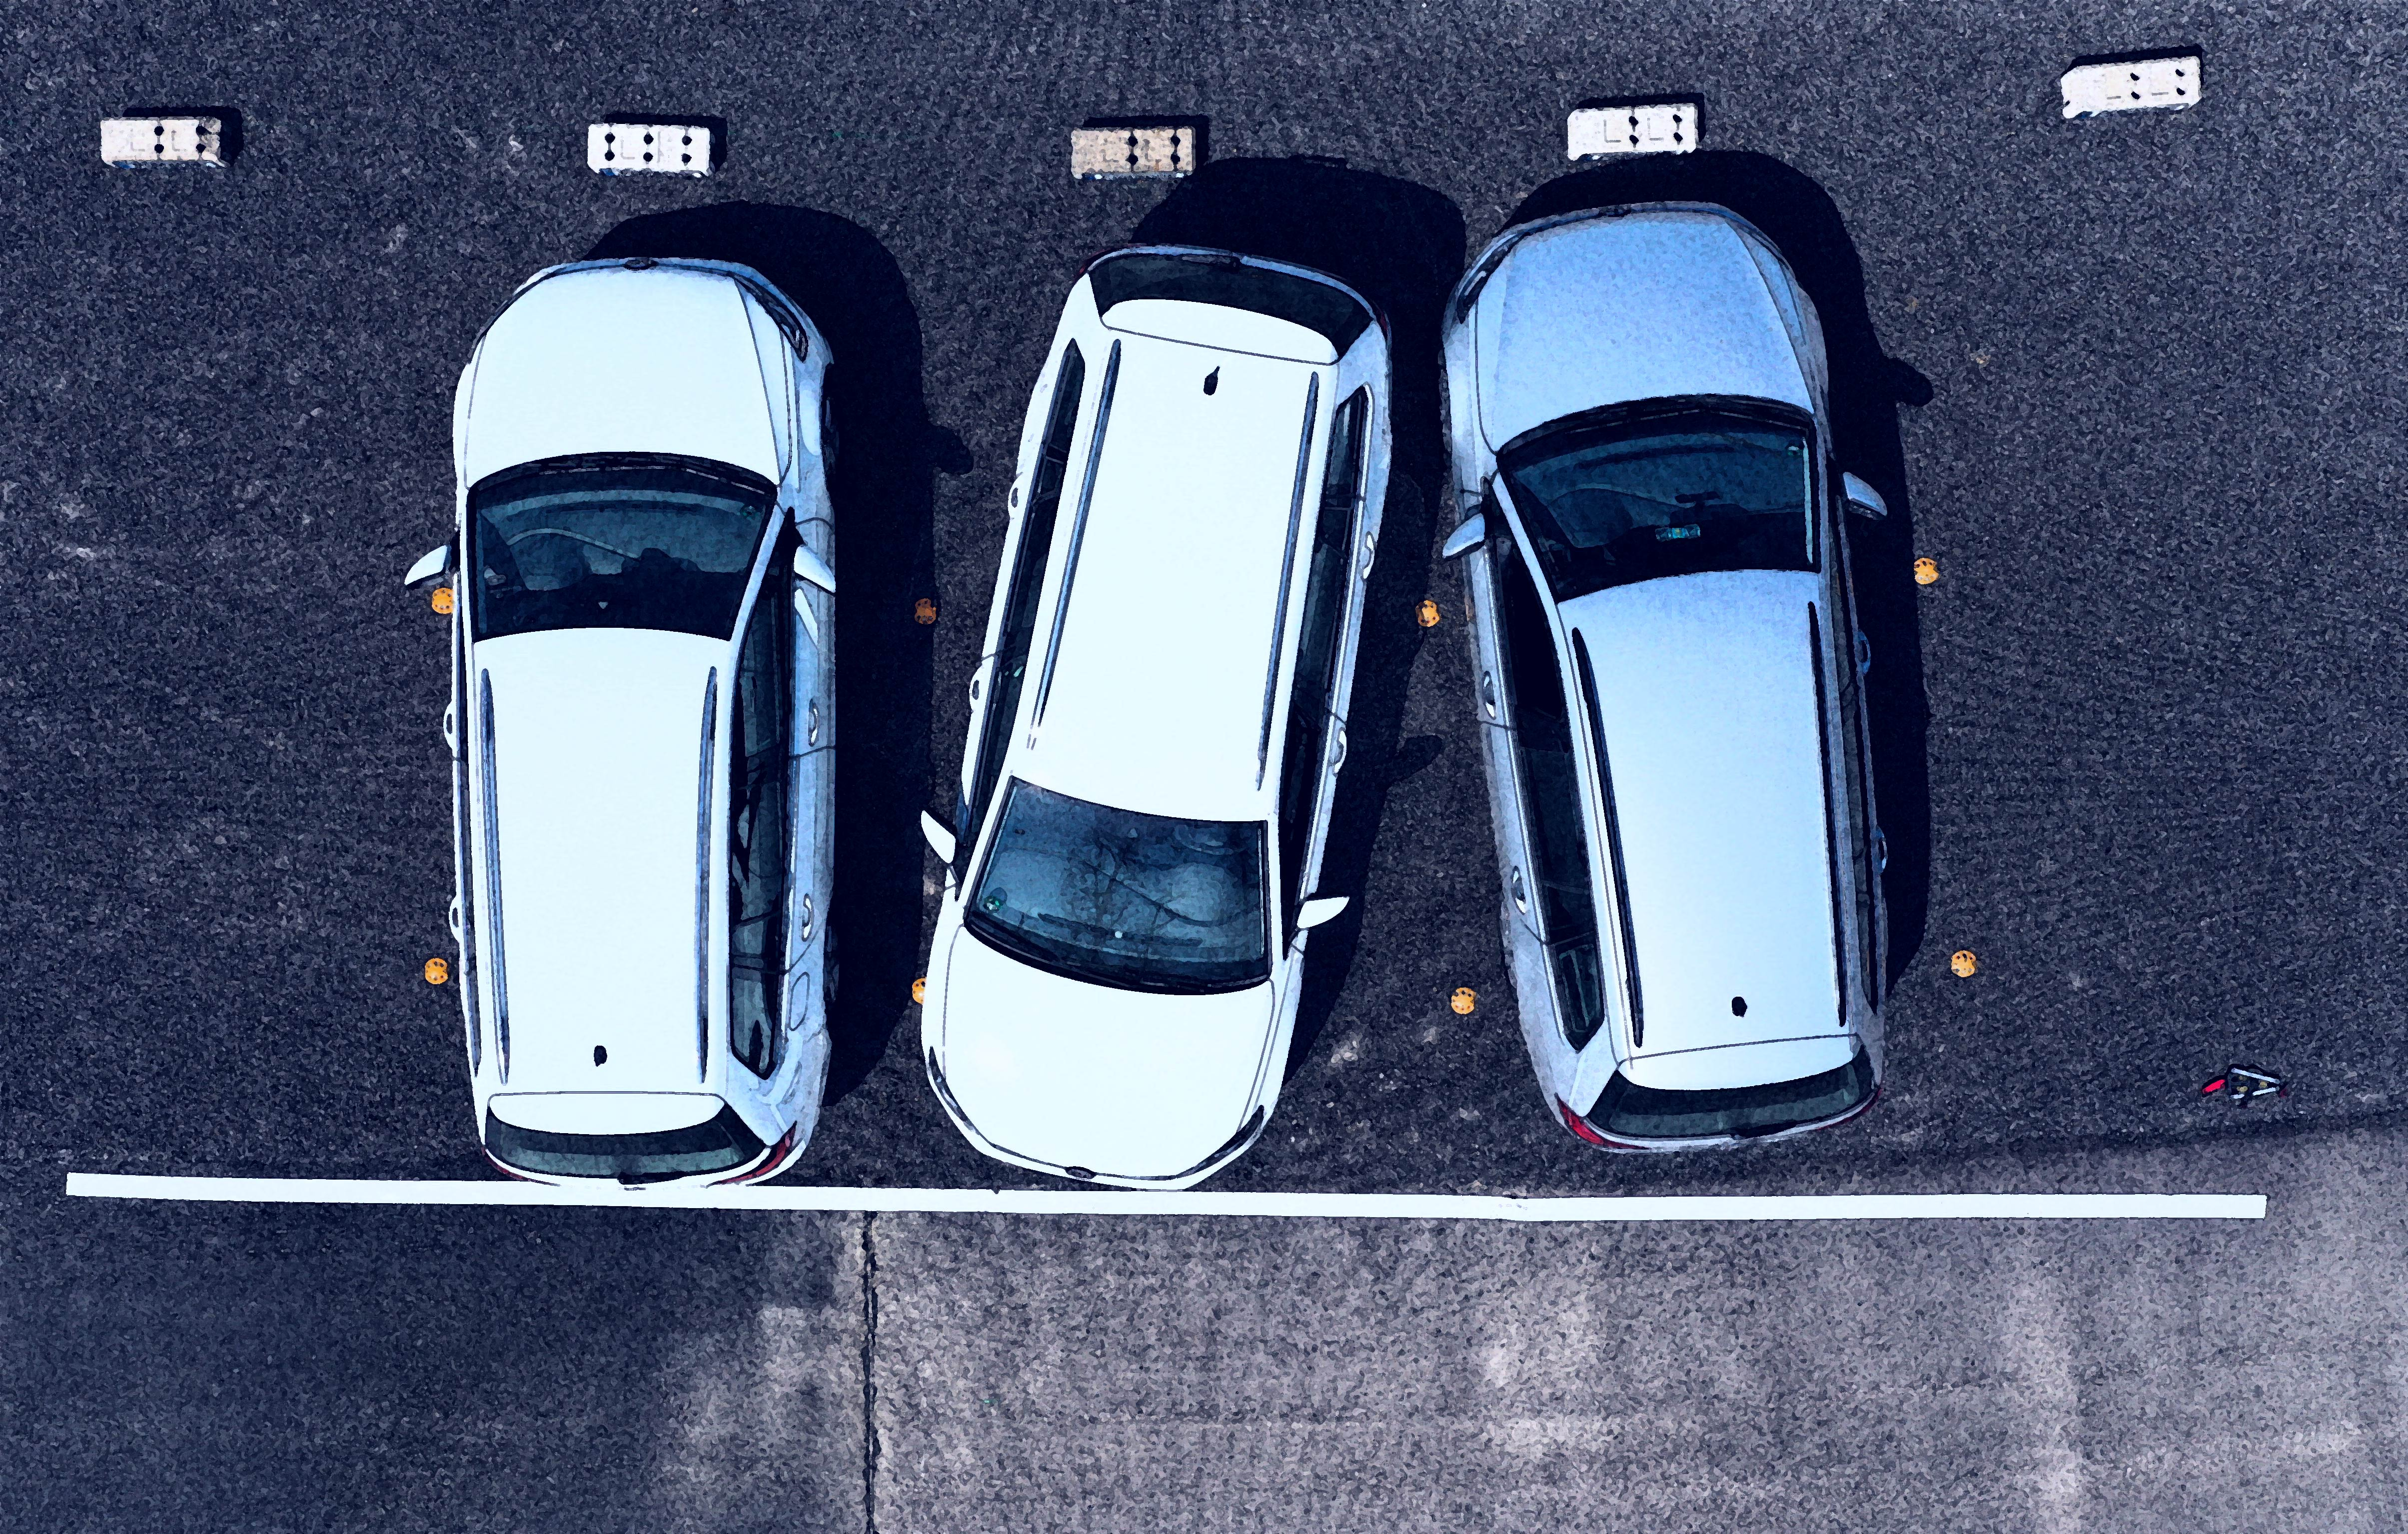Car: (911, 228, 1399, 1185), (1450, 183, 1880, 1179), (435, 244, 872, 1179)
LaneMark: (60, 1165, 2266, 1227)
